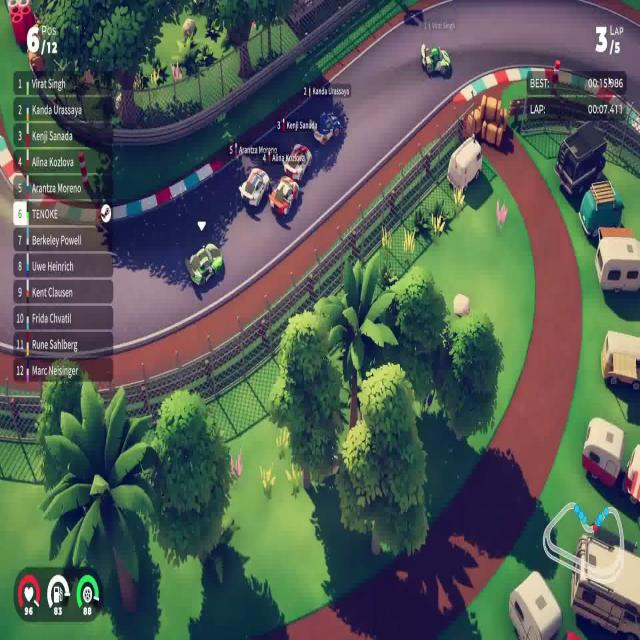car: (184, 241, 223, 288), (238, 166, 270, 209), (268, 174, 299, 218), (282, 142, 312, 181), (309, 111, 343, 144), (421, 44, 452, 79)
